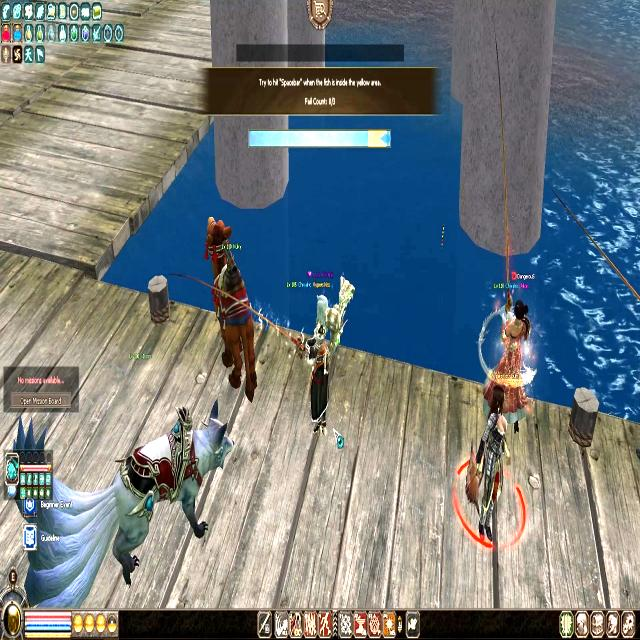fishes: (378, 130, 391, 147)
